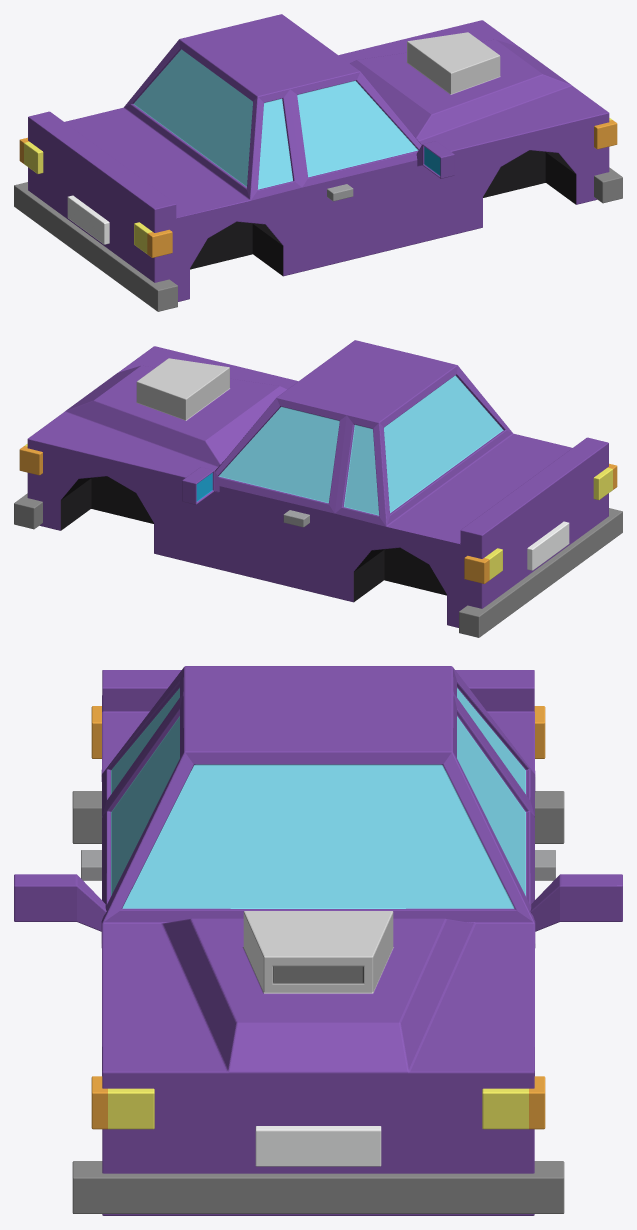
File: Car_sport.fbx
3 renders of one model, top to bottom at view 1: azimuth 30°, elevation 25°; view 2: azimuth 150°, elevation 25°; view 3: azimuth 270°, elevation 25°, orthographic. The views are drawn at different scales.
Visible parts, largest first — view 1: Car_sport; view 2: Car_sport; view 3: Car_sport.
Boxes of the visible parts, x1,y1,x2,y2 form: Car_sport: [14, 14, 622, 311]; Car_sport: [14, 340, 622, 637]; Car_sport: [14, 666, 622, 1215].
Bounding box in the file's own units: 424 × 142 × 282.
